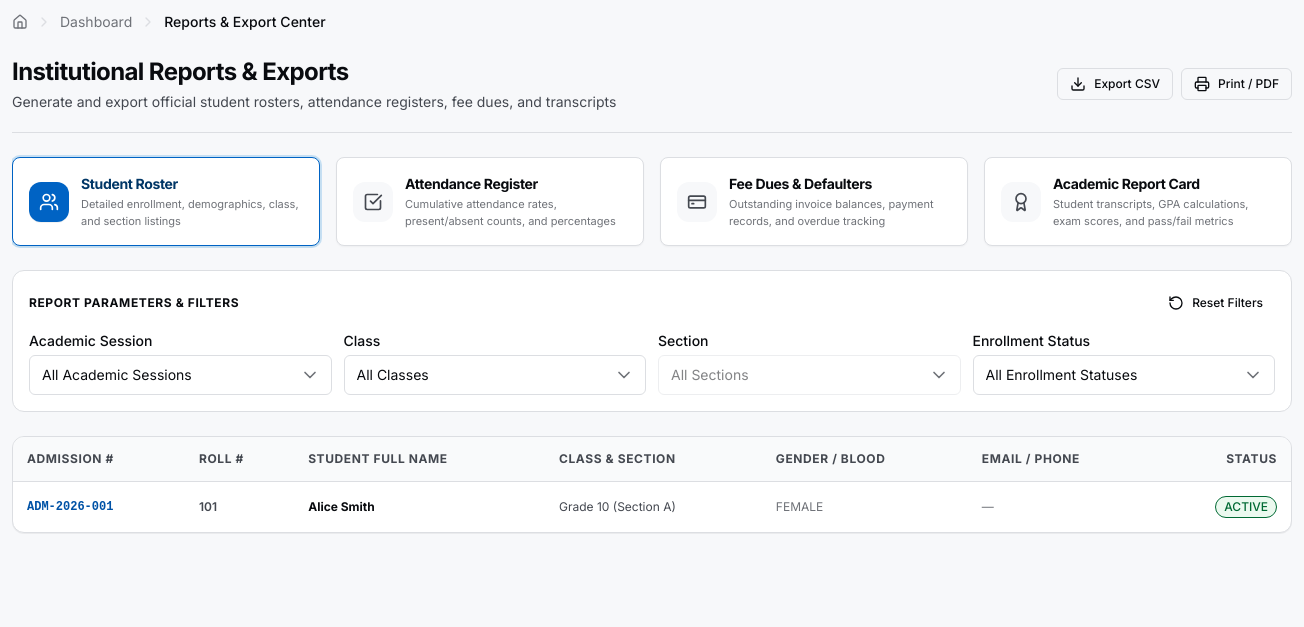
Test case: ReportsPage Component › should render reports page, student roster table, and switch to attendance report tab
Check: the heading "Institutional Reports & Exports" is shown, box left=12, top=57, right=349, bottom=86
Check: the heading "Student Roster" is shown, box left=81, top=175, right=178, bottom=192
Switch to Attendance report
Click the heading "Attendance Register".
click(471, 184)  # box left=405, top=175, right=538, bottom=192
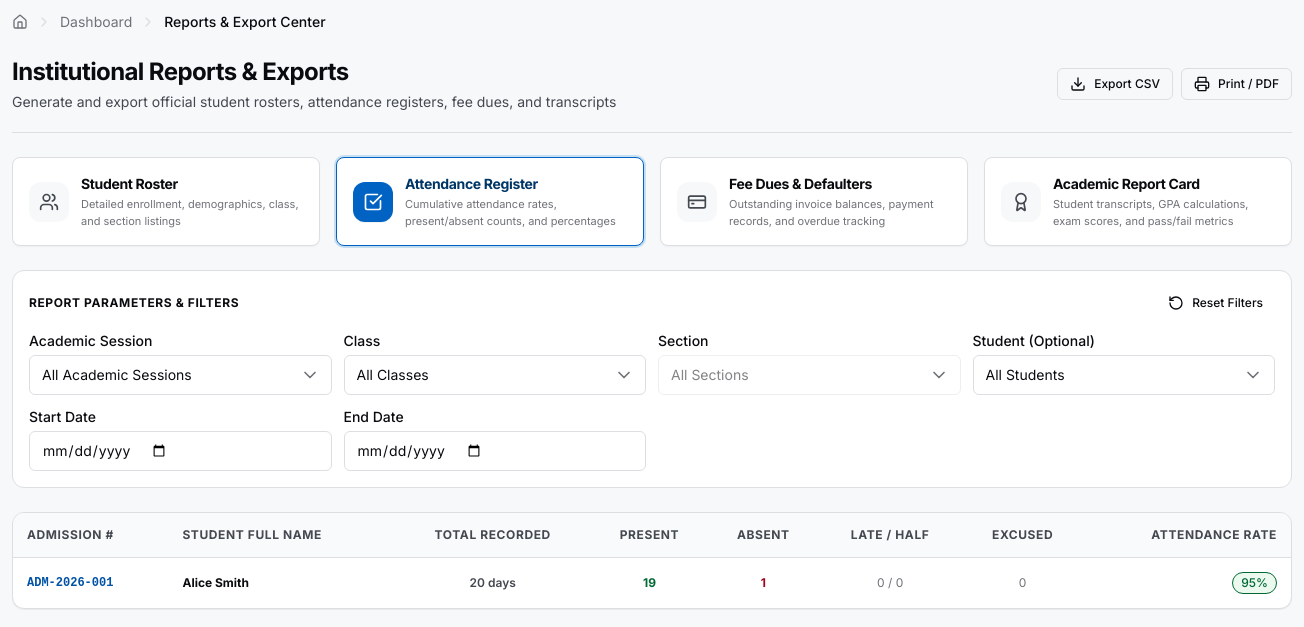
Check: the text "95%" is shown, box left=1232, top=572, right=1277, bottom=594
Check: the text "19" is shown, box left=590, top=558, right=709, bottom=608
